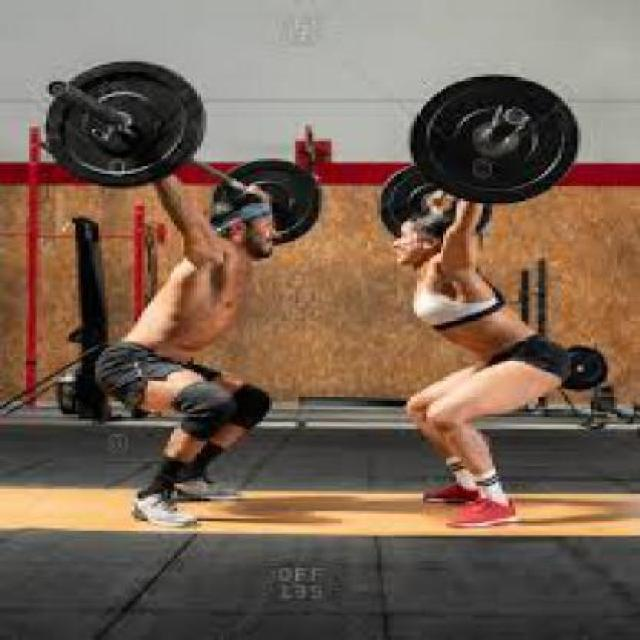barbell: (405, 73, 586, 213), (46, 60, 207, 191)
